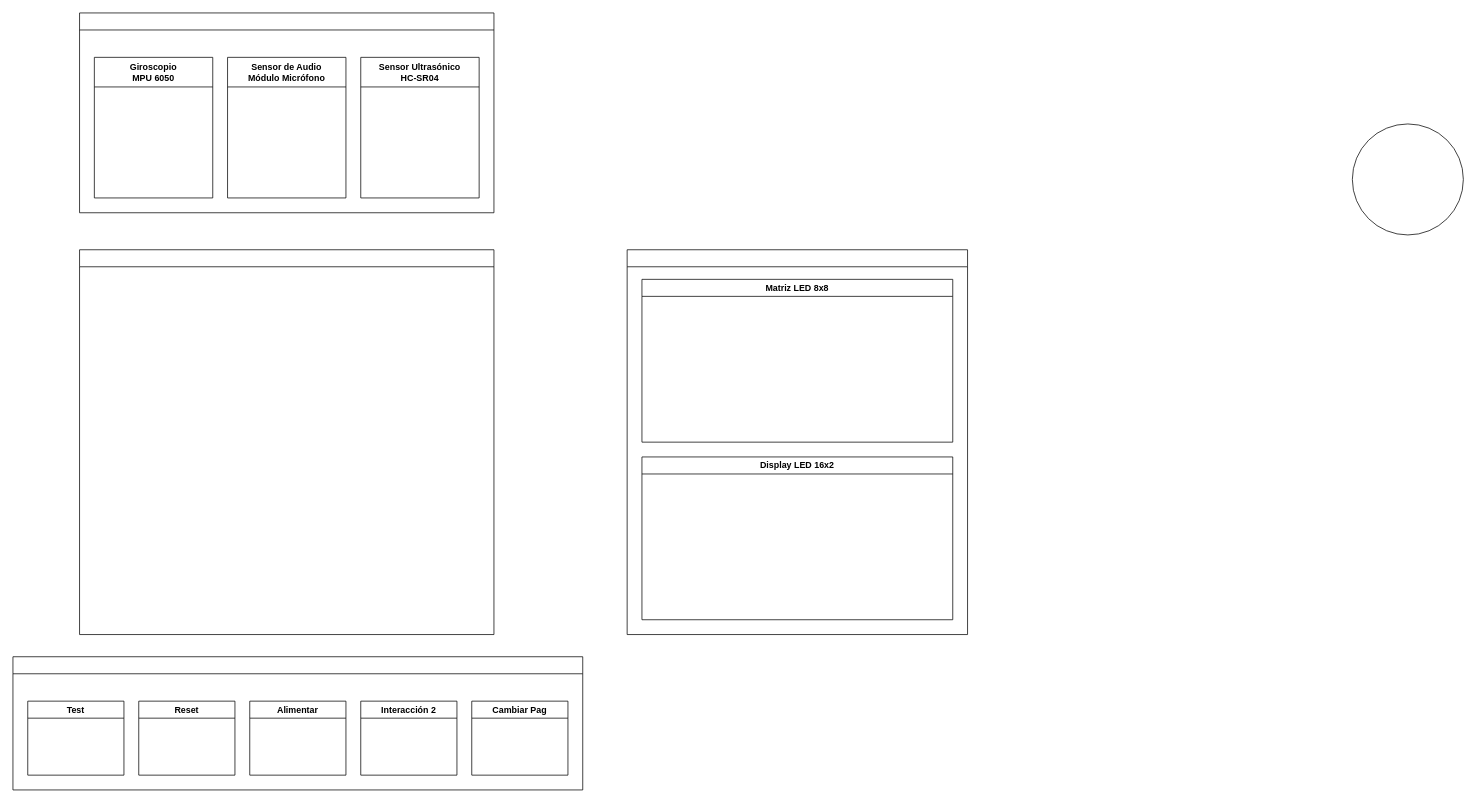
This 1476x803 diagram has some shape labels left out. The shapes that lost their labels are listed below. From the top down, each one's box as (x1, y1, x2, y2) in pixels, then its label:
(79, 12, 494, 213): Sensores
(79, 249, 494, 635): FPGA Altera Ciclone IV
(626, 249, 968, 635): Visualización
(12, 656, 583, 790): Botones
